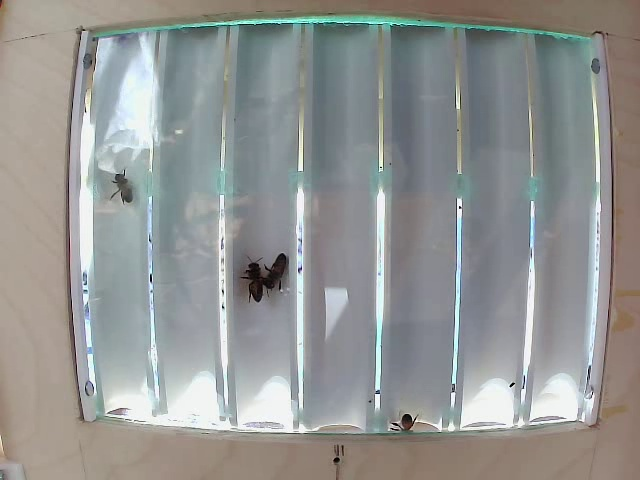bee: (236, 265, 274, 306), (258, 252, 294, 289), (106, 168, 141, 202)
